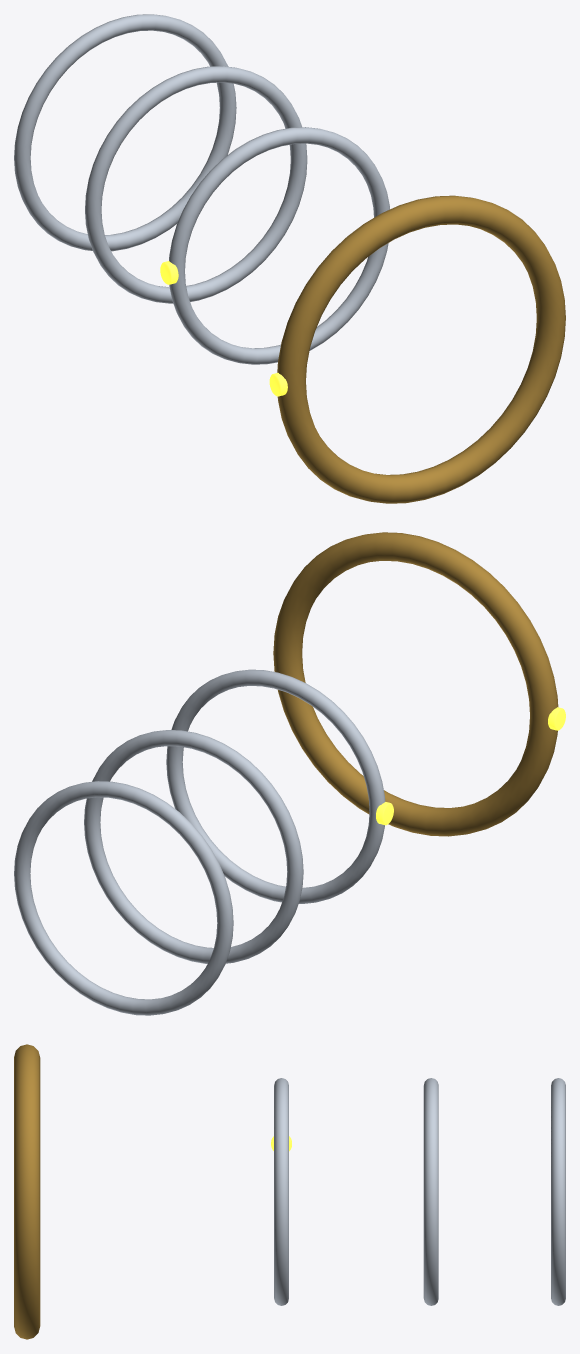
File: tower_nova_damage_s3.glb
The picture shows the model from 3 angles, top to bottom: view 1: azimuth 30°, elevation 25°; view 2: azimuth 150°, elevation 25°; view 3: azimuth 270°, elevation 25°; orthographic projection. The views are drawn at different scales.
Visible parts, largest first — view 1: nova_pressure_ring, nova_tube_band1.02, nova_tube_band1.36, nova_tube_band0.62; view 2: nova_pressure_ring, nova_tube_band1.36, nova_tube_band1.02, nova_tube_band0.62; view 3: nova_pressure_ring, nova_tube_band1.02, nova_tube_band1.36, nova_tube_band0.62.
Boxes of the visible parts, bbox=[...] form: nova_pressure_ring: bbox=[277, 195, 565, 503]; nova_tube_band1.02: bbox=[85, 66, 307, 303]; nova_tube_band1.36: bbox=[14, 14, 236, 251]; nova_tube_band0.62: bbox=[169, 127, 389, 364]; nova_pressure_ring: bbox=[273, 532, 558, 836]; nova_tube_band1.36: bbox=[14, 781, 233, 1015]; nova_tube_band1.02: bbox=[84, 730, 303, 963]; nova_tube_band0.62: bbox=[166, 669, 385, 903]; nova_pressure_ring: bbox=[14, 1044, 40, 1339]; nova_tube_band1.02: bbox=[423, 1078, 438, 1305]; nova_tube_band1.36: bbox=[551, 1078, 565, 1305]; nova_tube_band0.62: bbox=[274, 1078, 288, 1305].
Bounding box in the file's own units: 0.801 × 0.79 × 1.47.
